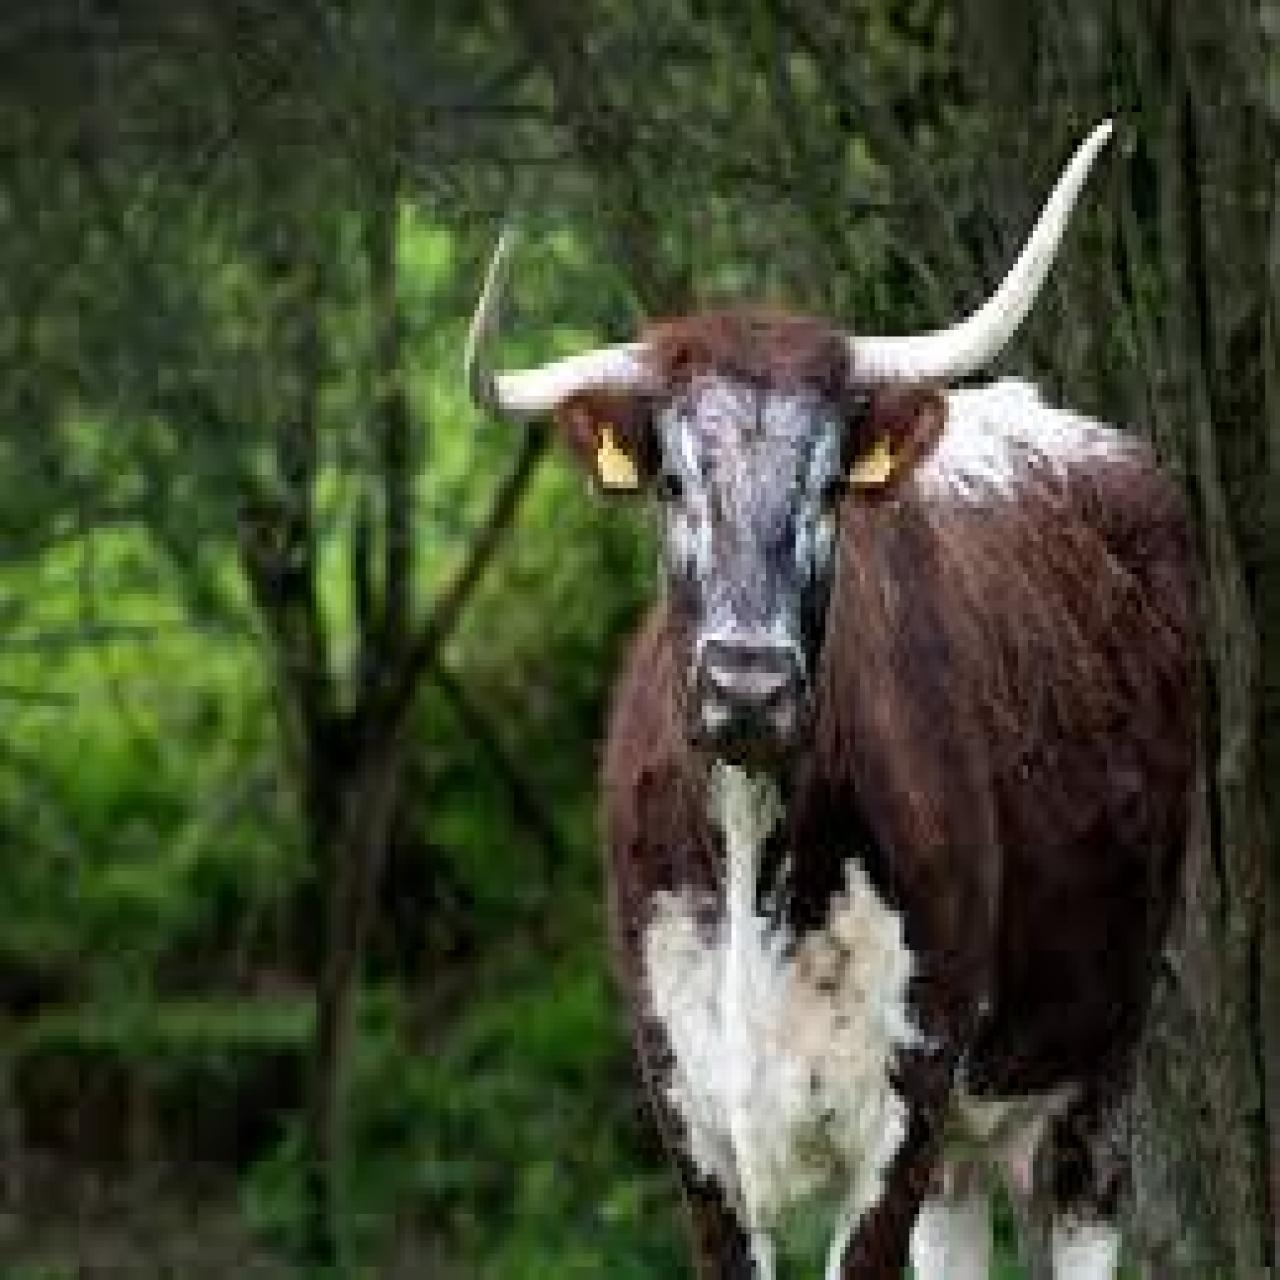cow: (558, 316, 1205, 1280)
